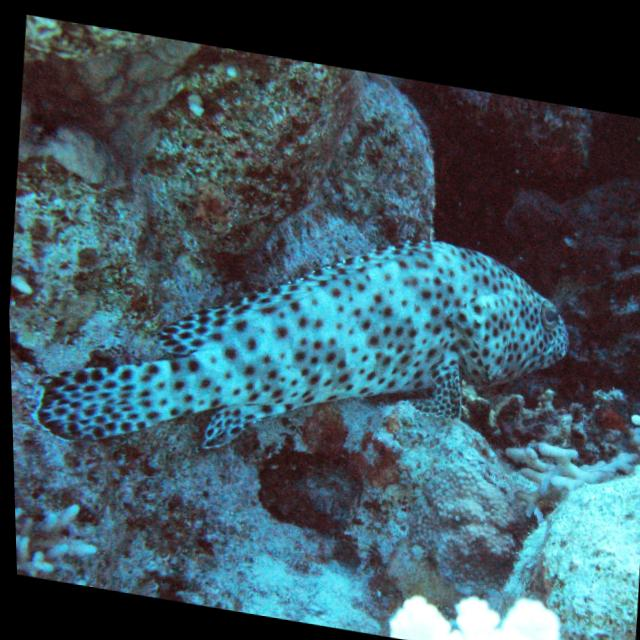Groupers: (20, 170, 589, 528)
